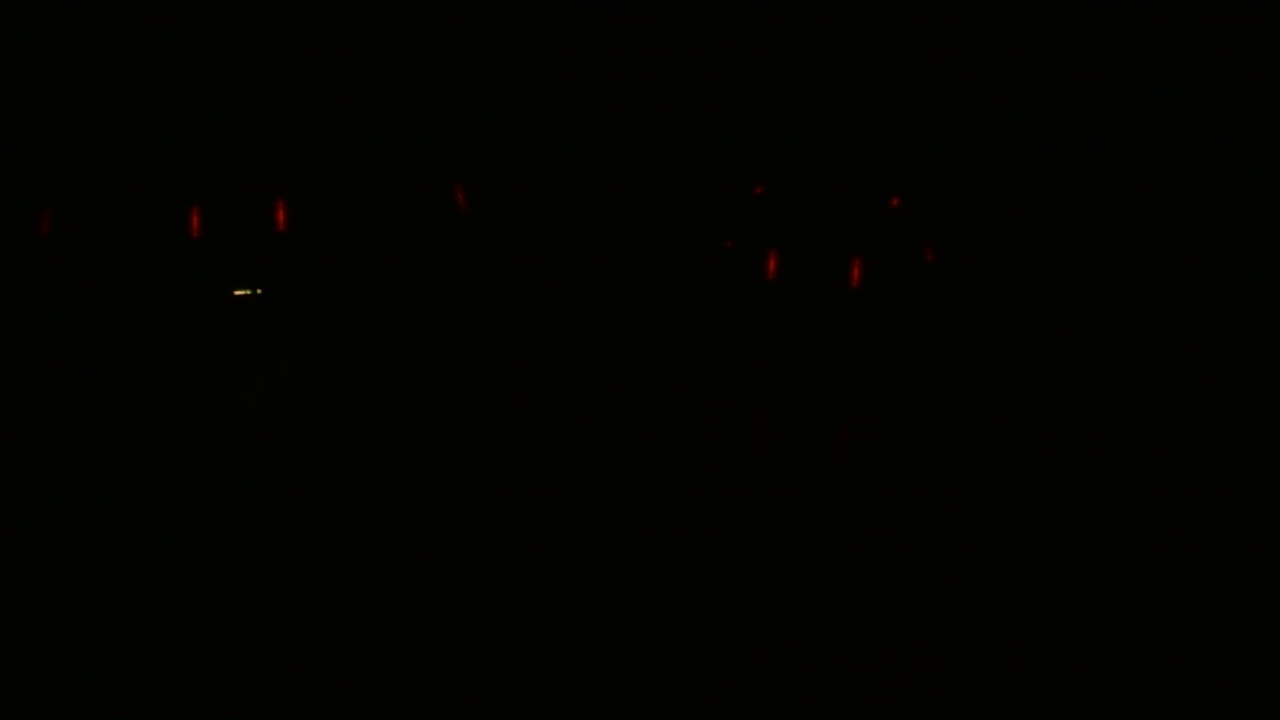pair1: (180, 185, 303, 248)
pair2: (750, 241, 875, 303)
